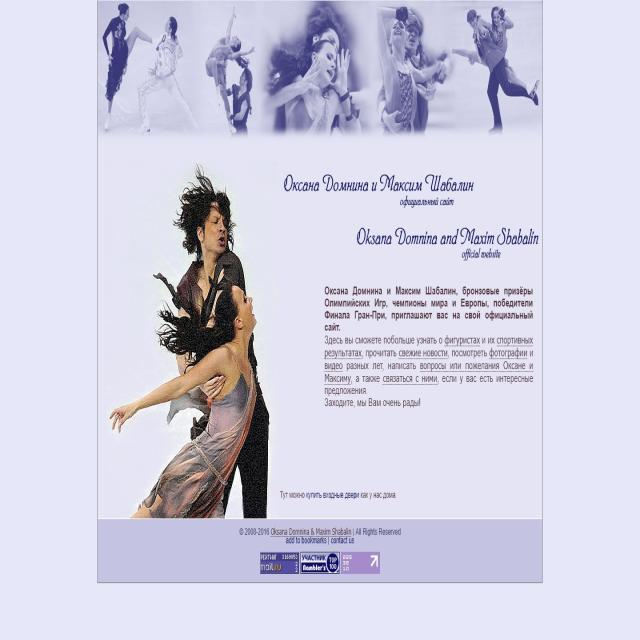heading: (281, 172, 475, 195), (355, 223, 543, 246)
image: (97, 0, 542, 141), (107, 164, 270, 520), (260, 552, 298, 576), (300, 553, 340, 575), (341, 552, 379, 574)
text: (322, 336, 535, 408), (322, 284, 534, 332), (237, 526, 403, 545), (279, 487, 397, 503), (397, 196, 458, 209), (458, 248, 502, 262)
